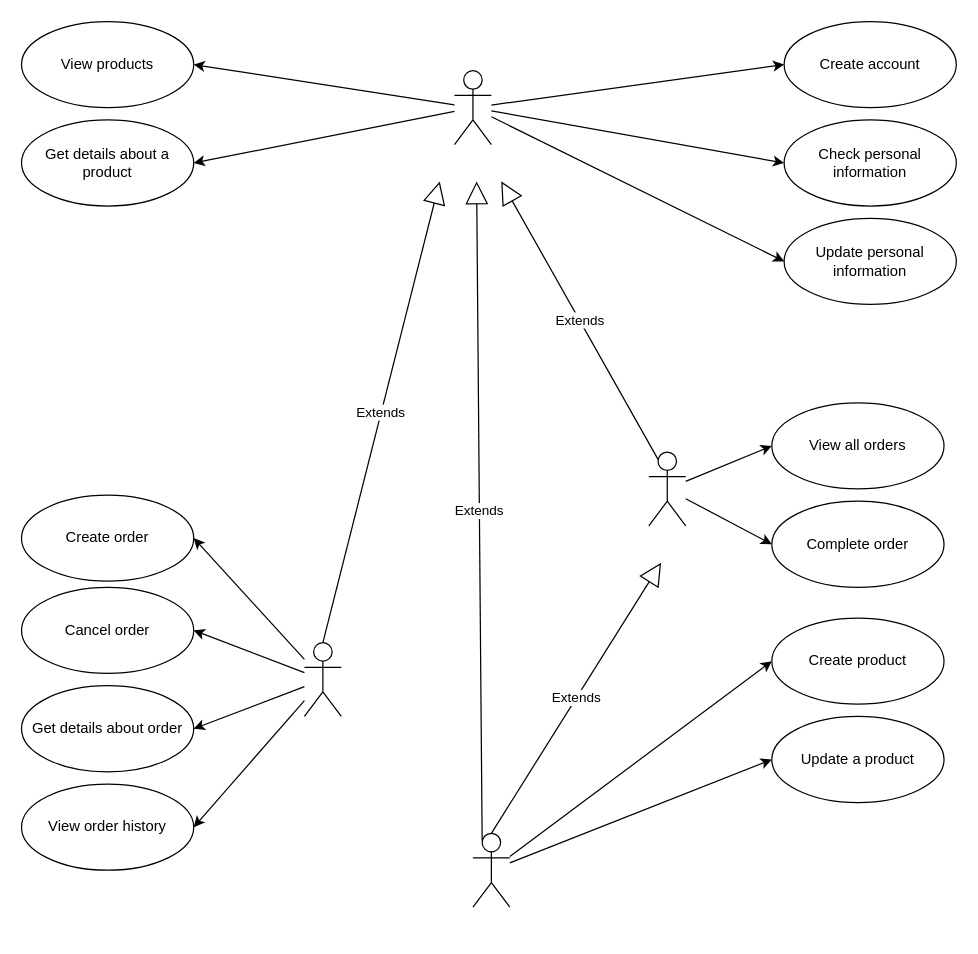
This 978x954 diagram has some shape labels left out. Here are the shapes that lost their labels. From the top down, the centre of each, then its label:
At (472,107): "User".
At (667,488): "SalesPerson".
At (322,678): "Client".
At (491,869): "SalesManager".
